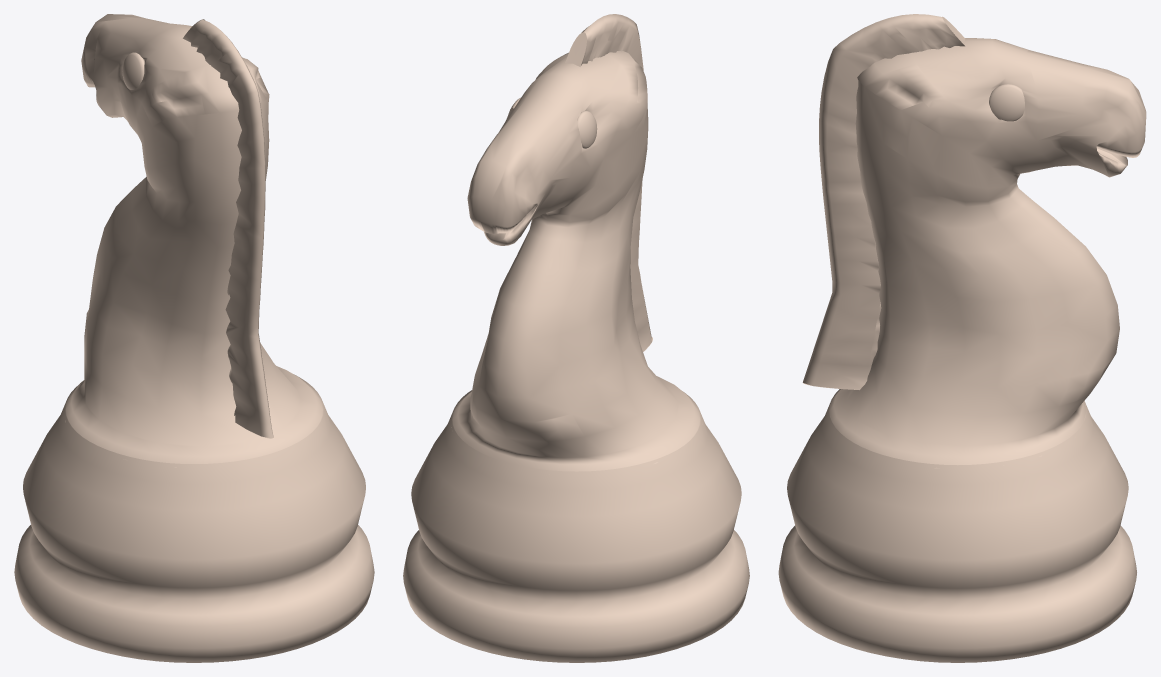
Rendered from Knight.fbx.
3 views of the same model, side by side, from view 1: azimuth 30°, elevation 25°; view 2: azimuth 150°, elevation 25°; view 3: azimuth 270°, elevation 25° (orthographic). The views are drawn at different scales.
Parts seen in each view (by area): view 1: Knight; view 2: Knight; view 3: Knight.
Boxes of the visible parts, <box> form: Knight: <box>14,14,374,662</box>; Knight: <box>403,14,749,662</box>; Knight: <box>778,14,1146,662</box>.
Size of the model in its own units: 4.09 by 7.27 by 4.19.
